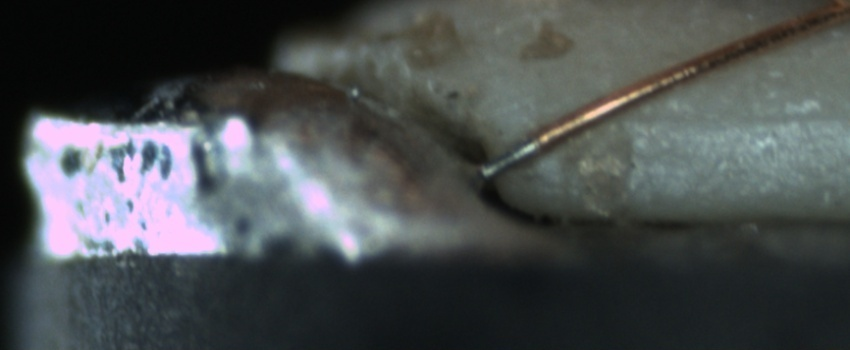DL: (619, 82, 843, 154)
TS: (480, 133, 541, 181)
TTCW: (479, 110, 584, 186)
